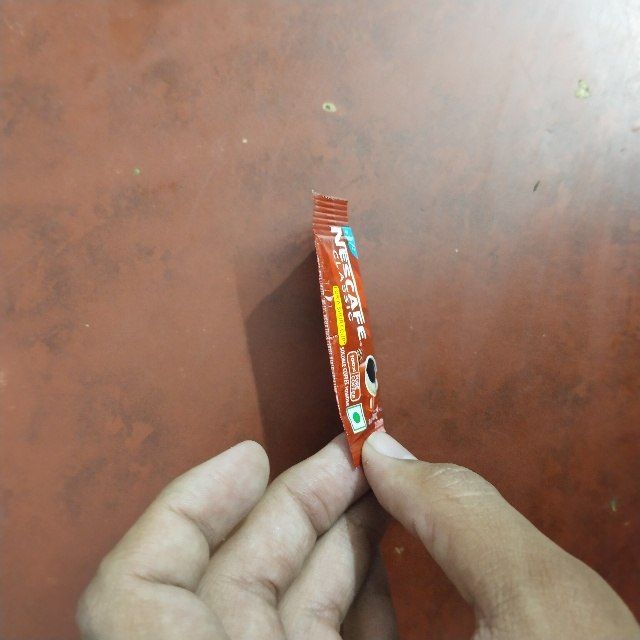Nescafe Coffee: (299, 191, 359, 473)
